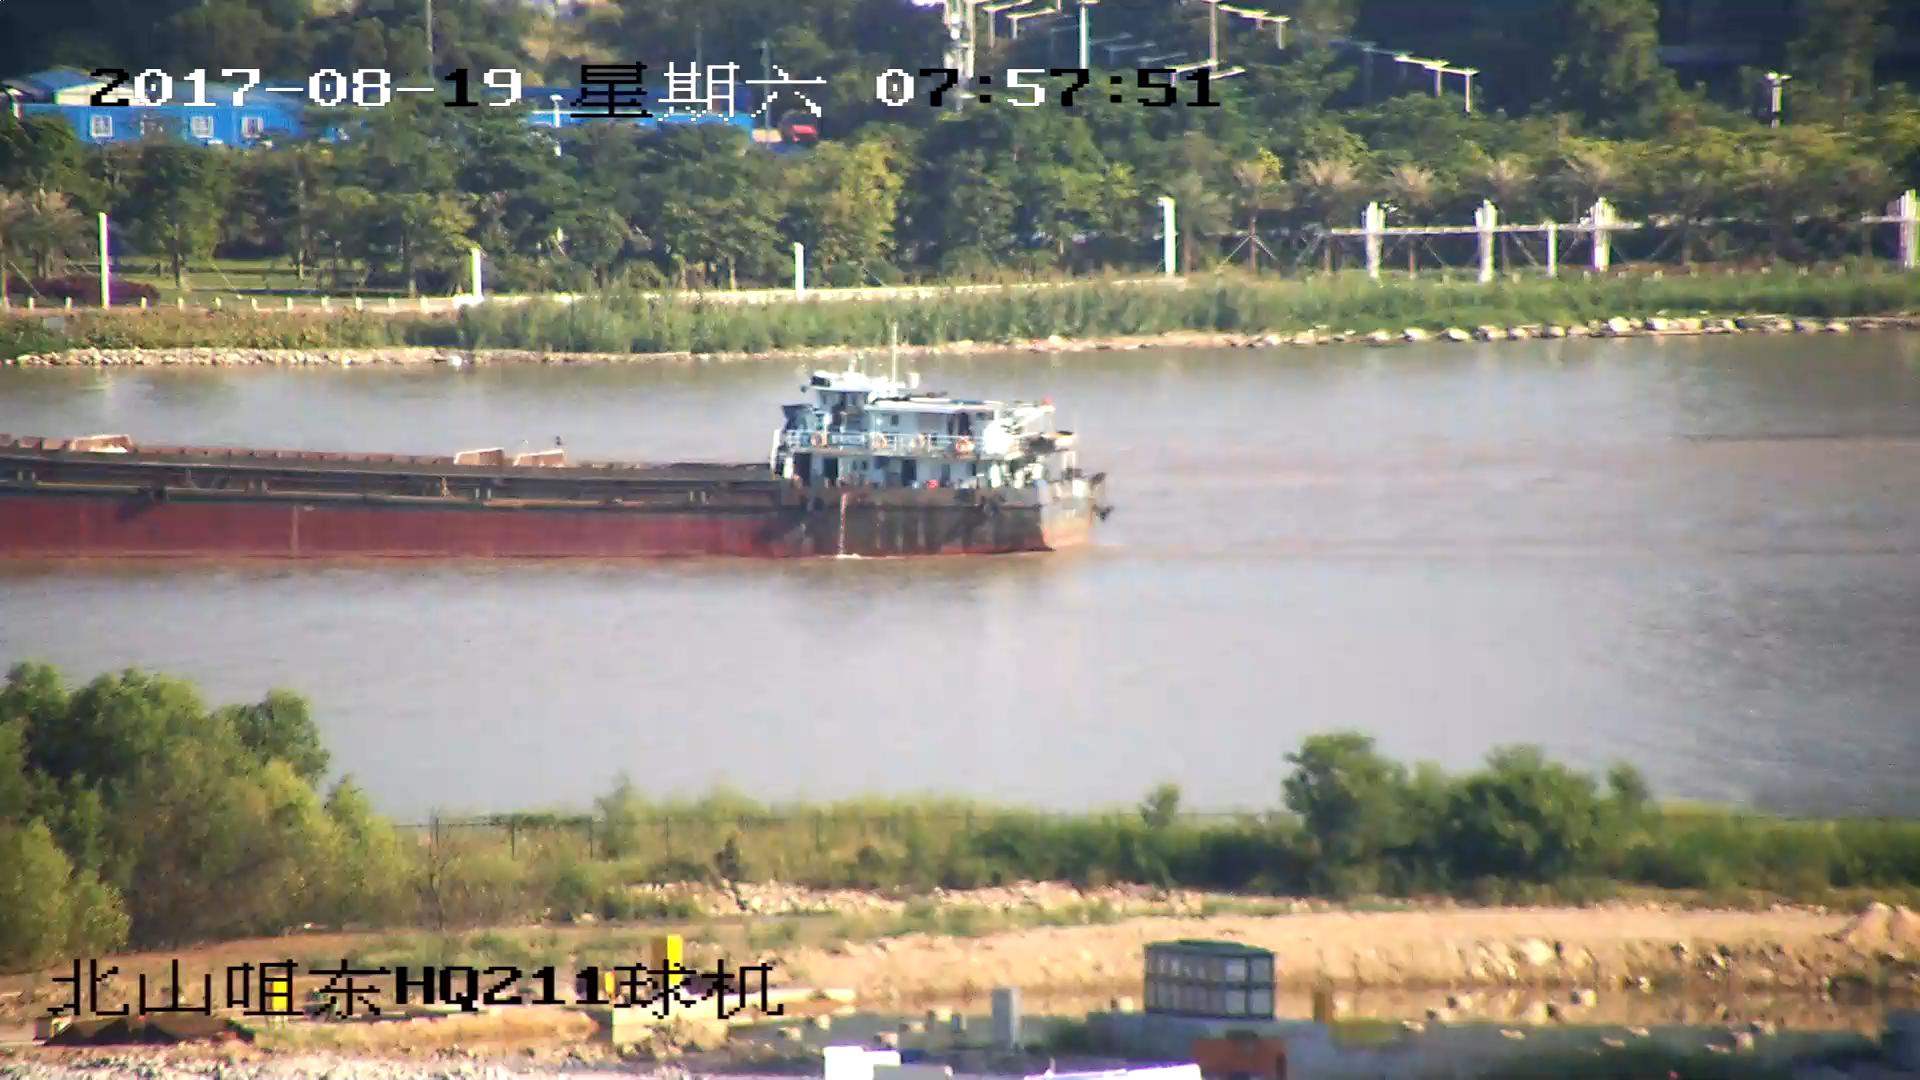bulk cargo carrier: (1, 354, 1108, 561)
